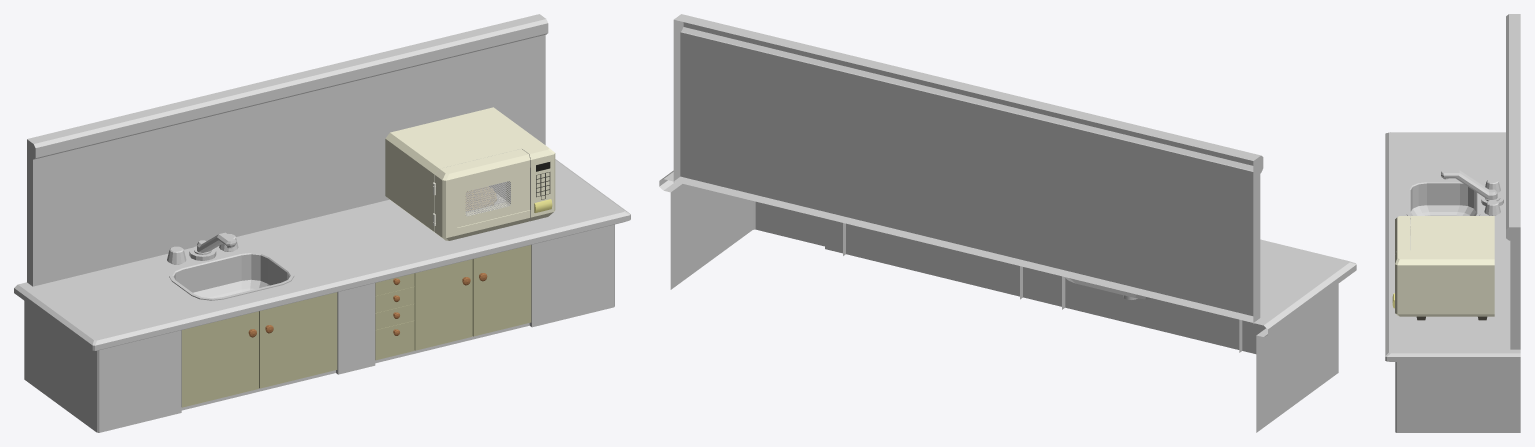
The model's file is kitchenA_mdl.fbx.
3 views of the same model, side by side, from view 1: azimuth 30°, elevation 25°; view 2: azimuth 150°, elevation 25°; view 3: azimuth 270°, elevation 25° (orthographic). The views are drawn at different scales.
Visible parts, largest first — view 1: pCube12, pCube10 (×2), pCube18, tableFax_geo1 (×2), pCube11, pCube17, microwaveBody_mdl, microwaveDoor_mdl, pCylinder8, pCube21; view 2: pCube12, pCube11, pCube18, pCube17, pCube10 (×2); view 3: pCube17, microwaveBody_mdl, pCube10 (×2), pCube18, pCylinder8, pCube11, pCube12, pCube21, microwaveDoor_mdl, pCylinder16.
Boxes of the visible parts, x1,y1,x2,y2 form: pCube12: (89,76,291,271); pCube10 (×2): (96,199,556,417); pCube18: (14,124,168,432); tableFax_geo1 (×2): (181,245,531,407); pCube11: (283,29,485,223); pCube17: (477,14,630,322); microwaveBody_mdl: (385,107,555,234); microwaveDoor_mdl: (435,149,530,240); pCylinder8: (169,251,294,300); pCube21: (189,232,236,260); pCube12: (964,85,1192,300); pCube11: (745,31,973,246); pCube18: (1183,138,1356,432); pCube17: (659,14,824,289); pCube10 (×2): (744,194,1269,353); pCube17: (1385,201,1520,432); microwaveBody_mdl: (1392,216,1494,320); pCube10 (×2): (1385,162,1510,325); pCube18: (1385,14,1520,163); pCylinder8: (1406,181,1480,218); pCube11: (1506,120,1520,203); pCube12: (1506,40,1520,122); pCube21: (1441,170,1503,205); microwaveDoor_mdl: (1395,216,1409,253); pCylinder16: (1484,178,1500,215).
Bounding box in the file's own units: 5.55 × 2.36 × 1.42.
